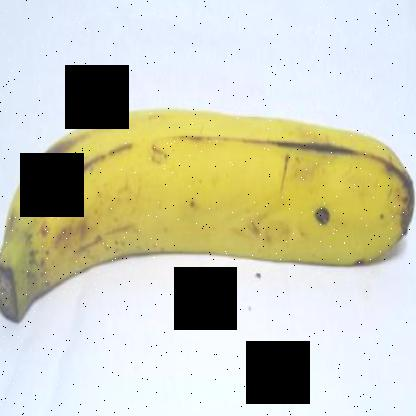ripe: (1, 96, 414, 326)
